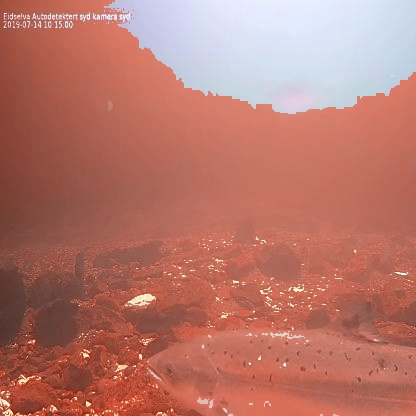salmon: (143, 298, 416, 416)
